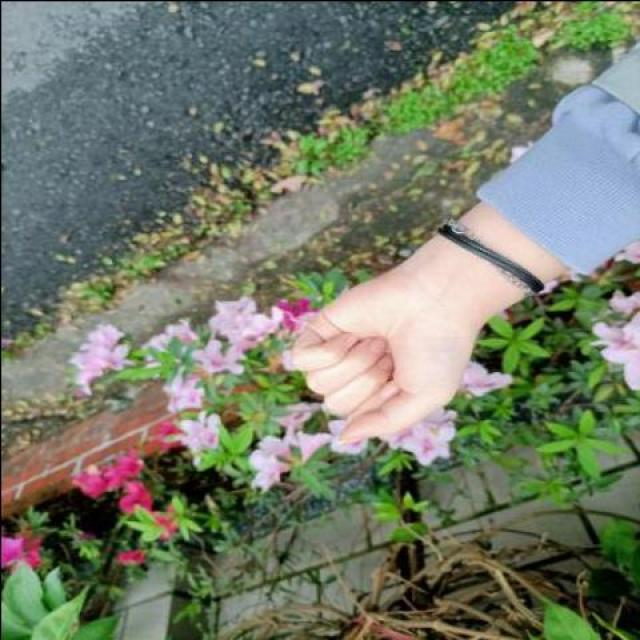Closed Hand: (280, 244, 508, 464)
